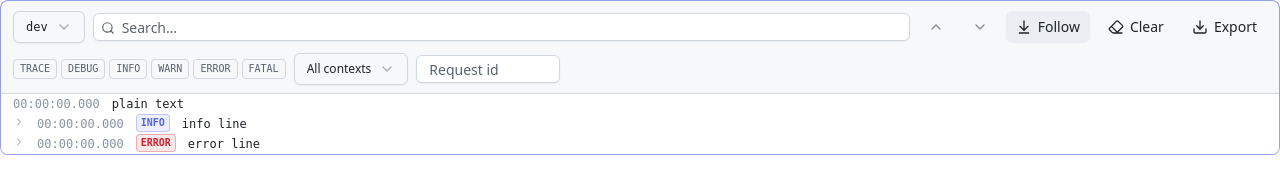
LogPane › hides plain lines while a level filter is set
Expected: the text "plain text" is shown, [112,97,184,111]
Click the button "error": (215, 69) [193,59,238,79]
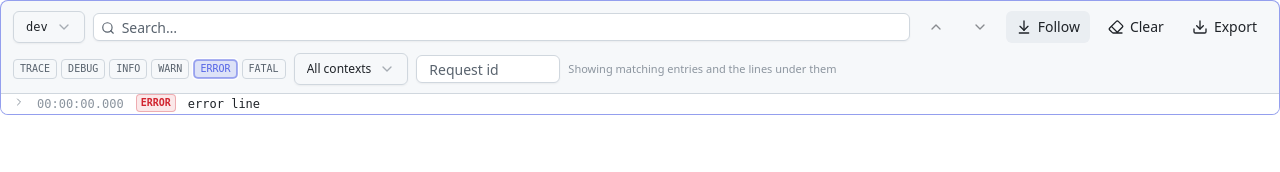
Result: the text "plain text" is gone
Result: the text "info line" is gone
Result: the text "Showing matching entries and the lines under them" is shown at [568,62,836,76]
